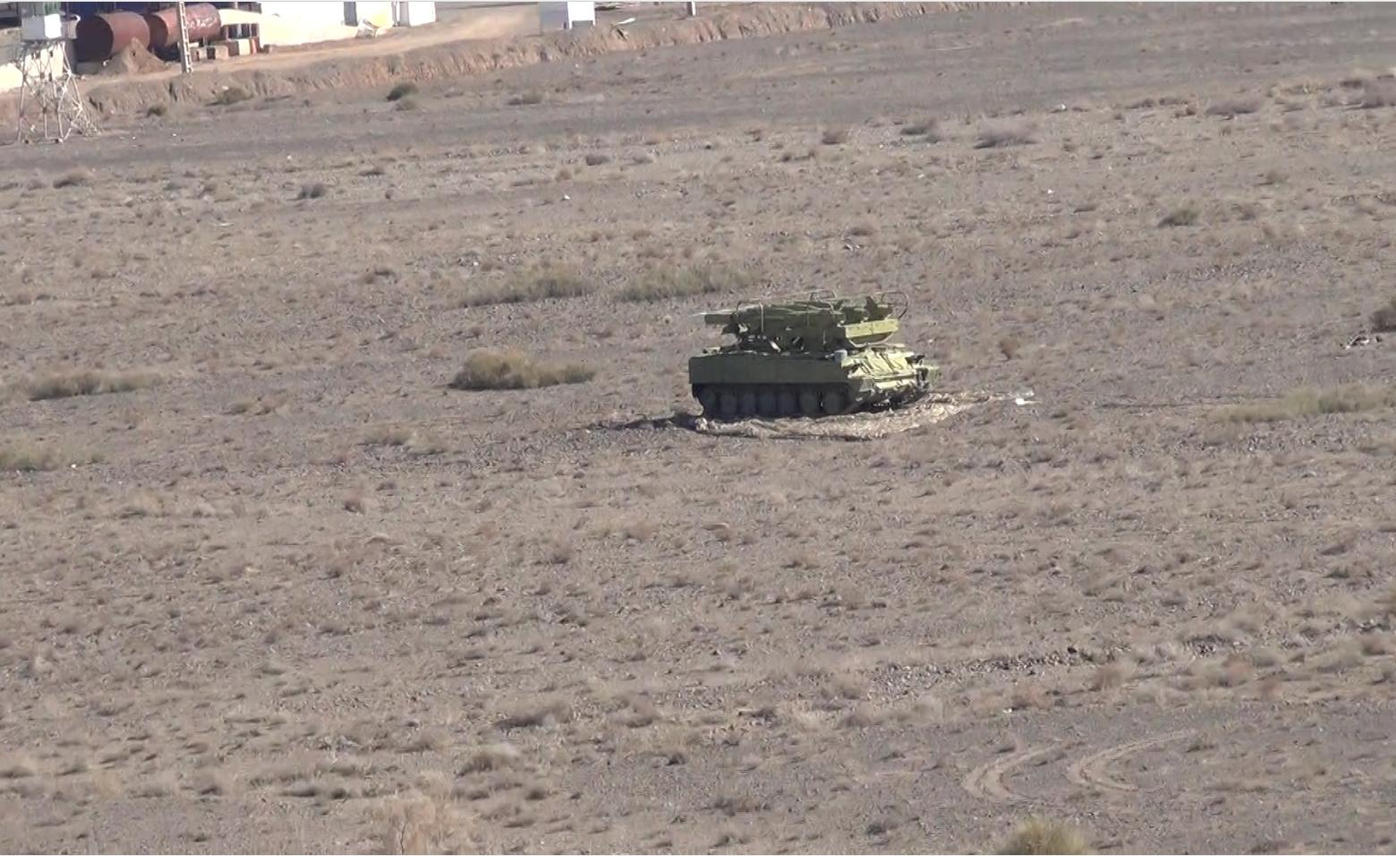armored_car: (678, 292, 937, 426)
